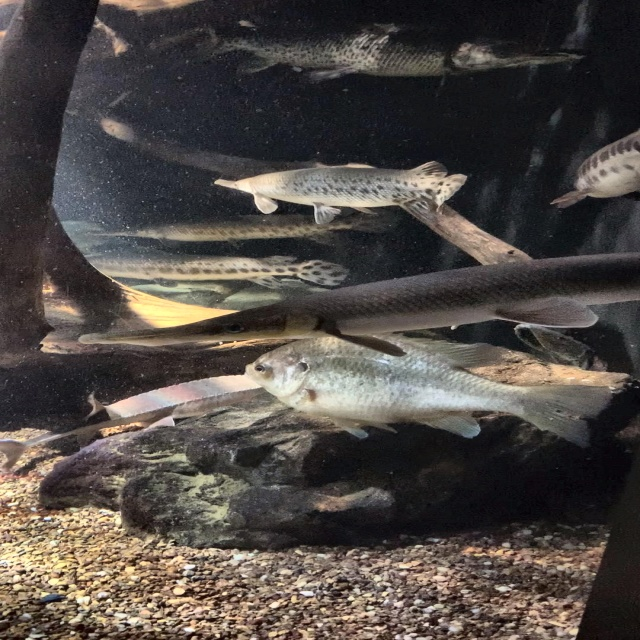fish: (75, 249, 639, 351), (237, 330, 616, 451), (172, 18, 592, 83), (207, 158, 472, 230), (71, 211, 431, 252), (66, 250, 361, 293), (546, 129, 639, 216)
